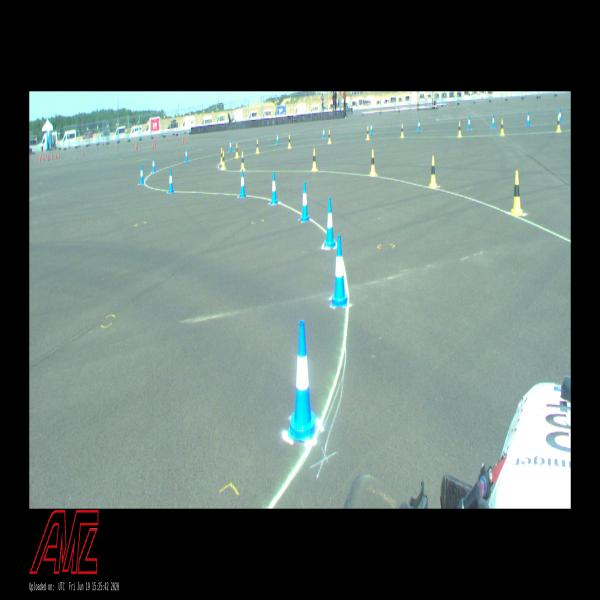blue_cone: (287, 320, 318, 443), (330, 235, 347, 307), (324, 198, 336, 248), (299, 182, 309, 222), (270, 171, 278, 205), (239, 170, 247, 198), (168, 169, 174, 194), (140, 164, 144, 186), (152, 157, 156, 173), (526, 112, 530, 127), (185, 148, 188, 162), (559, 109, 562, 123), (492, 115, 495, 128), (276, 133, 279, 145), (229, 140, 232, 152), (418, 119, 420, 132), (468, 117, 470, 130), (370, 123, 372, 134), (323, 127, 325, 138)
yellow_cone: (510, 171, 522, 216), (430, 156, 437, 188), (370, 149, 376, 176), (311, 149, 317, 171), (240, 152, 245, 171), (221, 151, 226, 169), (556, 115, 561, 132), (255, 140, 260, 153), (500, 119, 504, 135), (458, 121, 462, 137), (235, 143, 239, 158), (400, 124, 404, 138), (366, 126, 369, 140), (328, 130, 331, 143), (288, 135, 291, 148), (220, 148, 222, 164)
